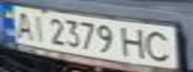2: (42, 15, 66, 47)
3: (60, 17, 81, 48)
7: (78, 19, 96, 51)
9: (93, 21, 118, 55)
A: (9, 8, 36, 39)
C: (139, 28, 178, 63)
H: (118, 25, 151, 60)
I: (27, 11, 48, 43)
